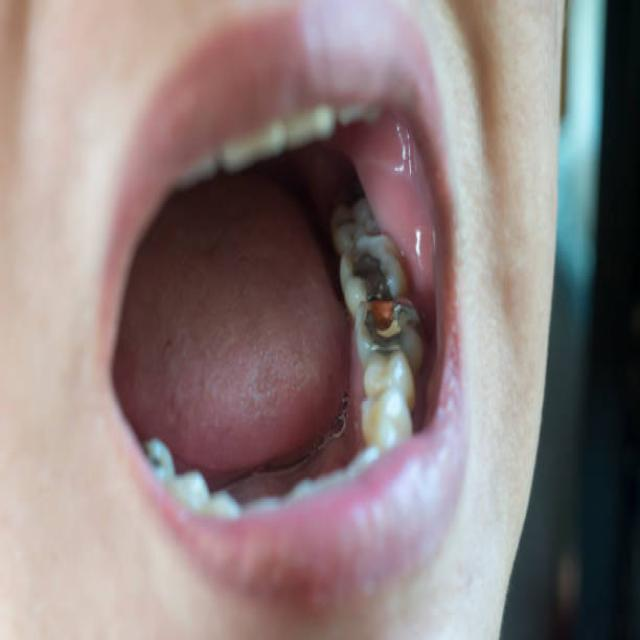caries: (362, 301, 424, 362), (344, 240, 400, 294)
